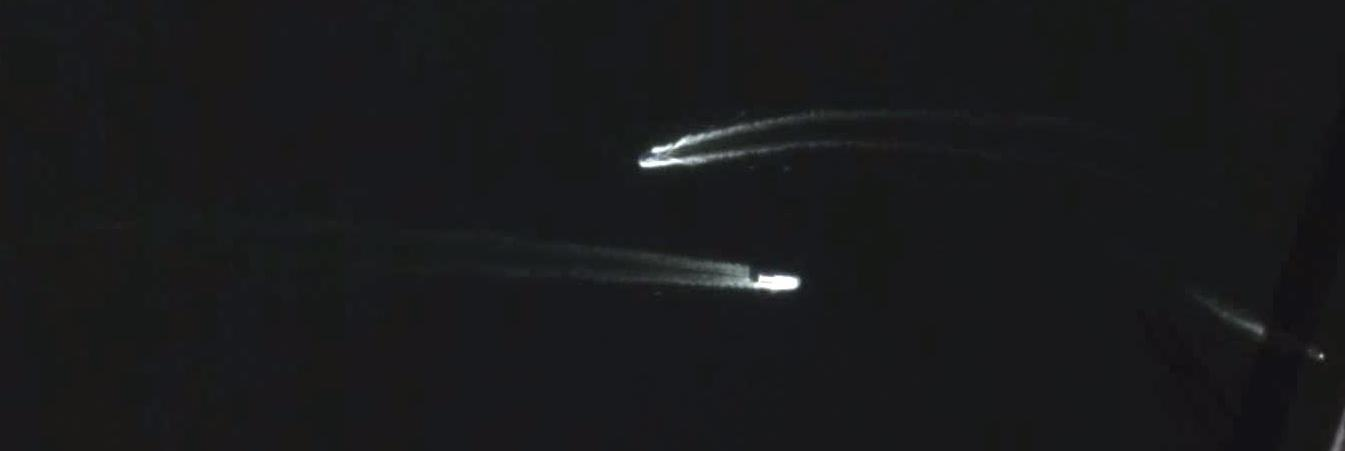person: (757, 273, 802, 292), (1300, 343, 1326, 364), (639, 152, 667, 160)
